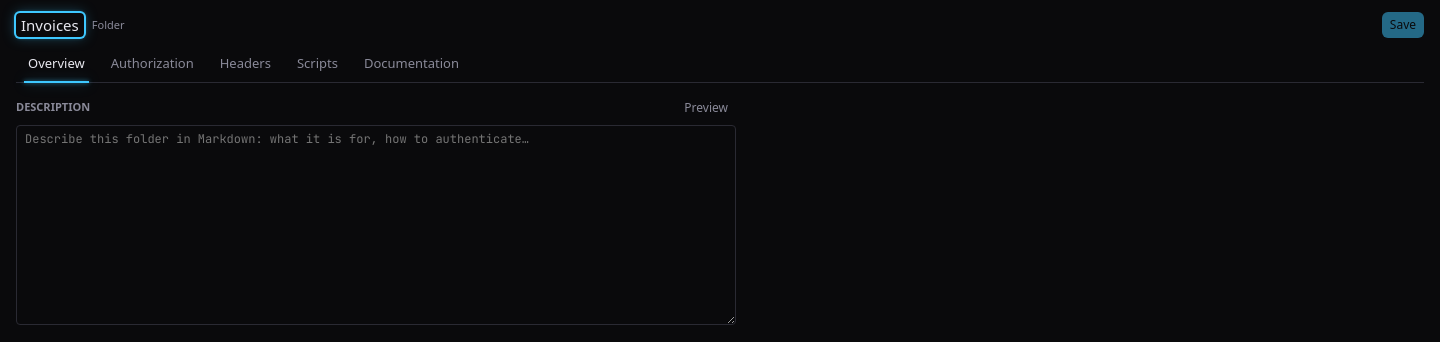
it: ItemTab › edits a folder name in place from the keyboard, and Escape restores it
This screenshot has width=1440, height=342.
Press Enter
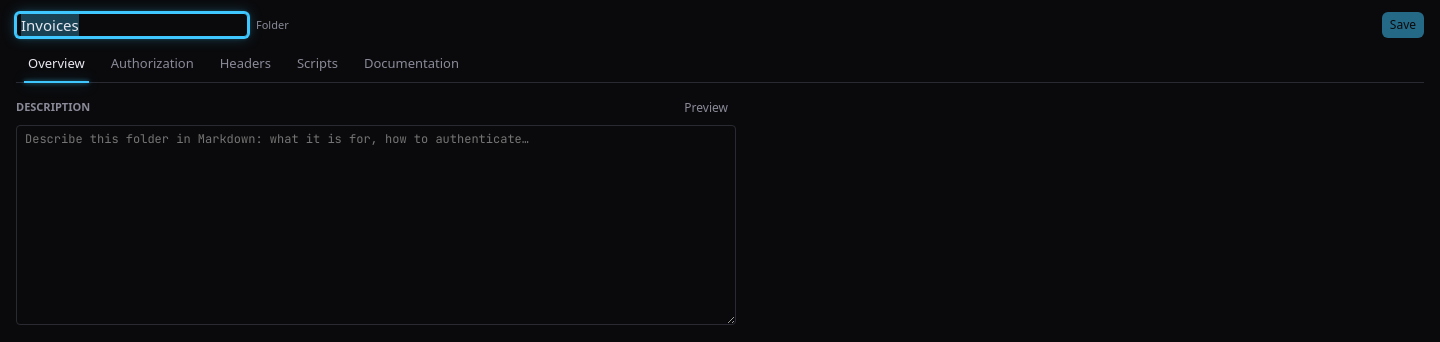
Type " 2024" into the field named "Rename folder" at x=132, y=25, box [16,13,248,37]
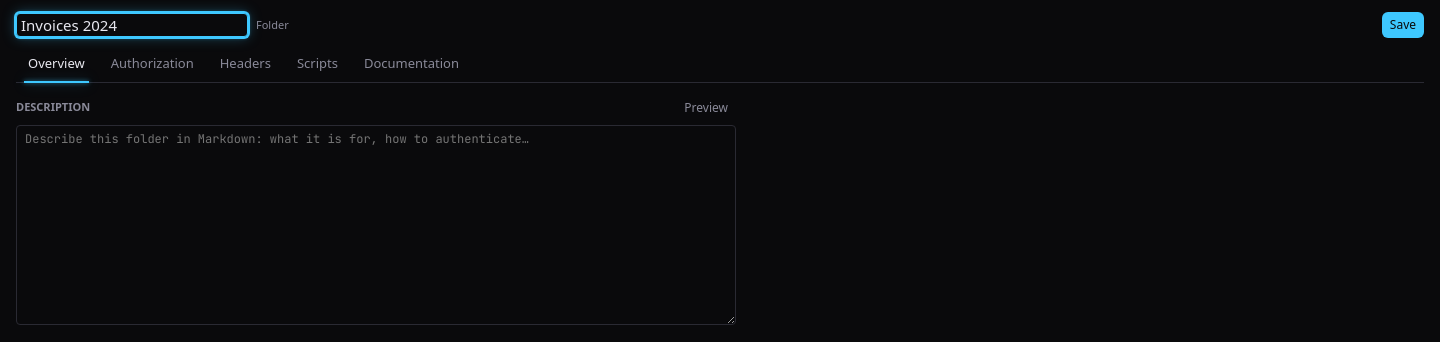
Press Escape
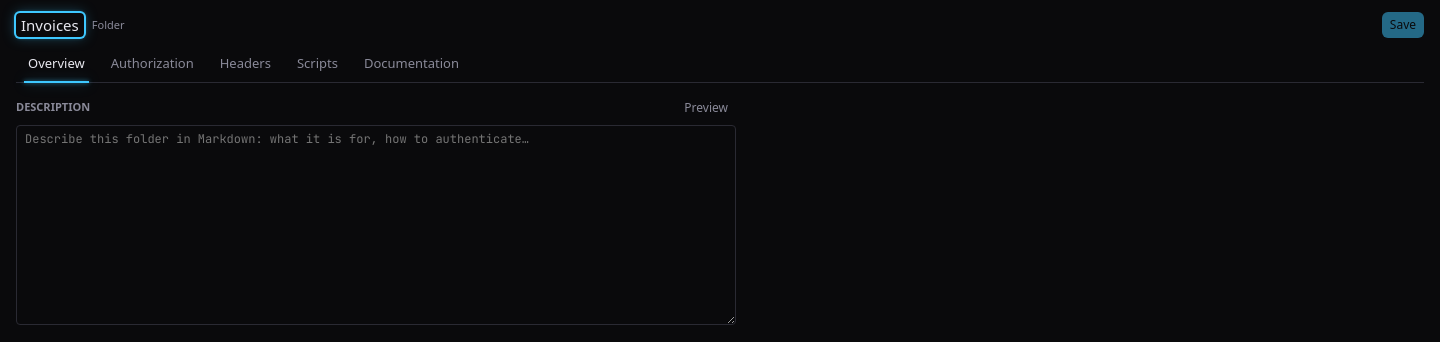
Expected: the button "Invoices" is shown, [16,13,84,37]
